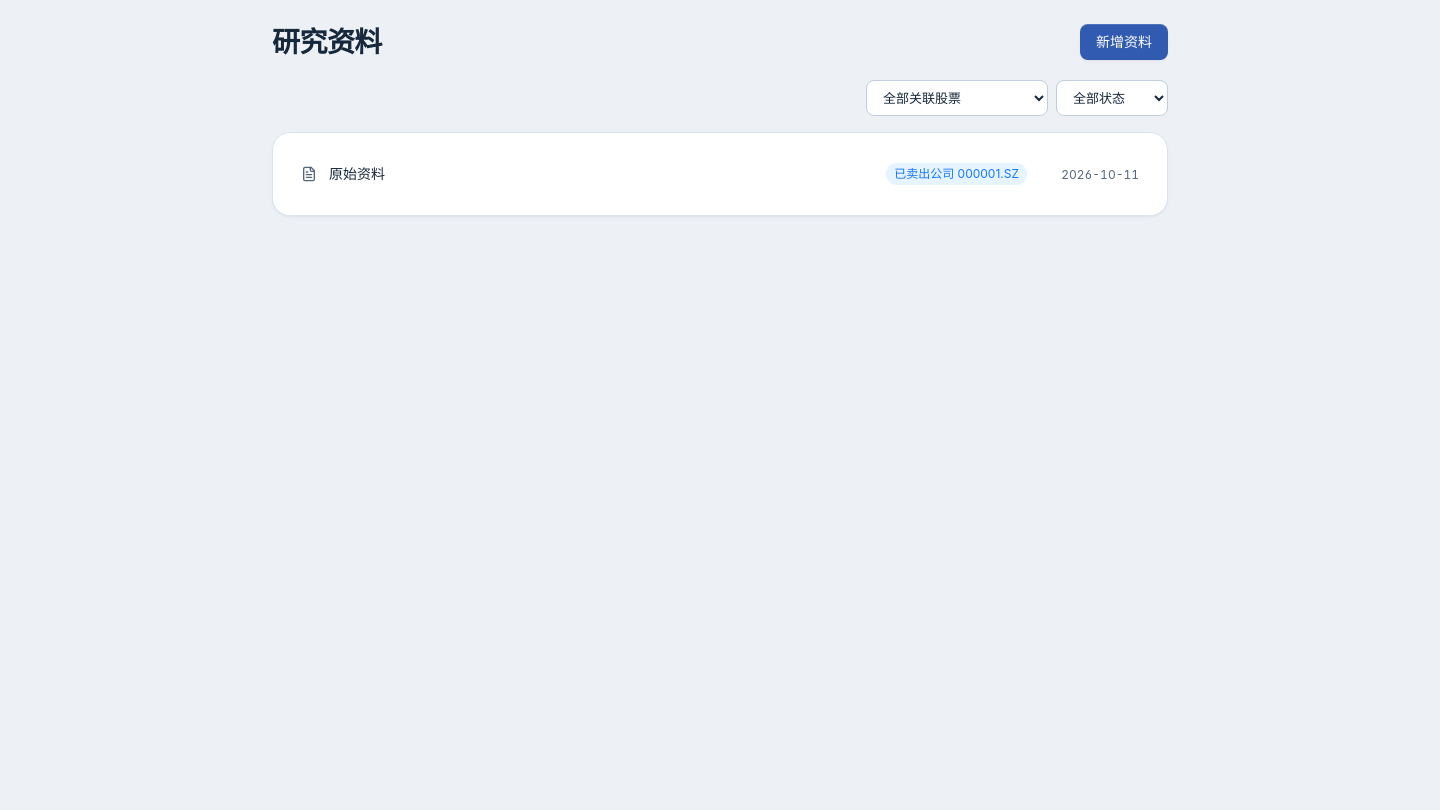
Test: keeps a stock tag that is no longer held or watched selectable
Click the button "原始资料 已卖出公司 000001.SZ 2026-10-11" at (357, 174), box [293,153,1147,195]
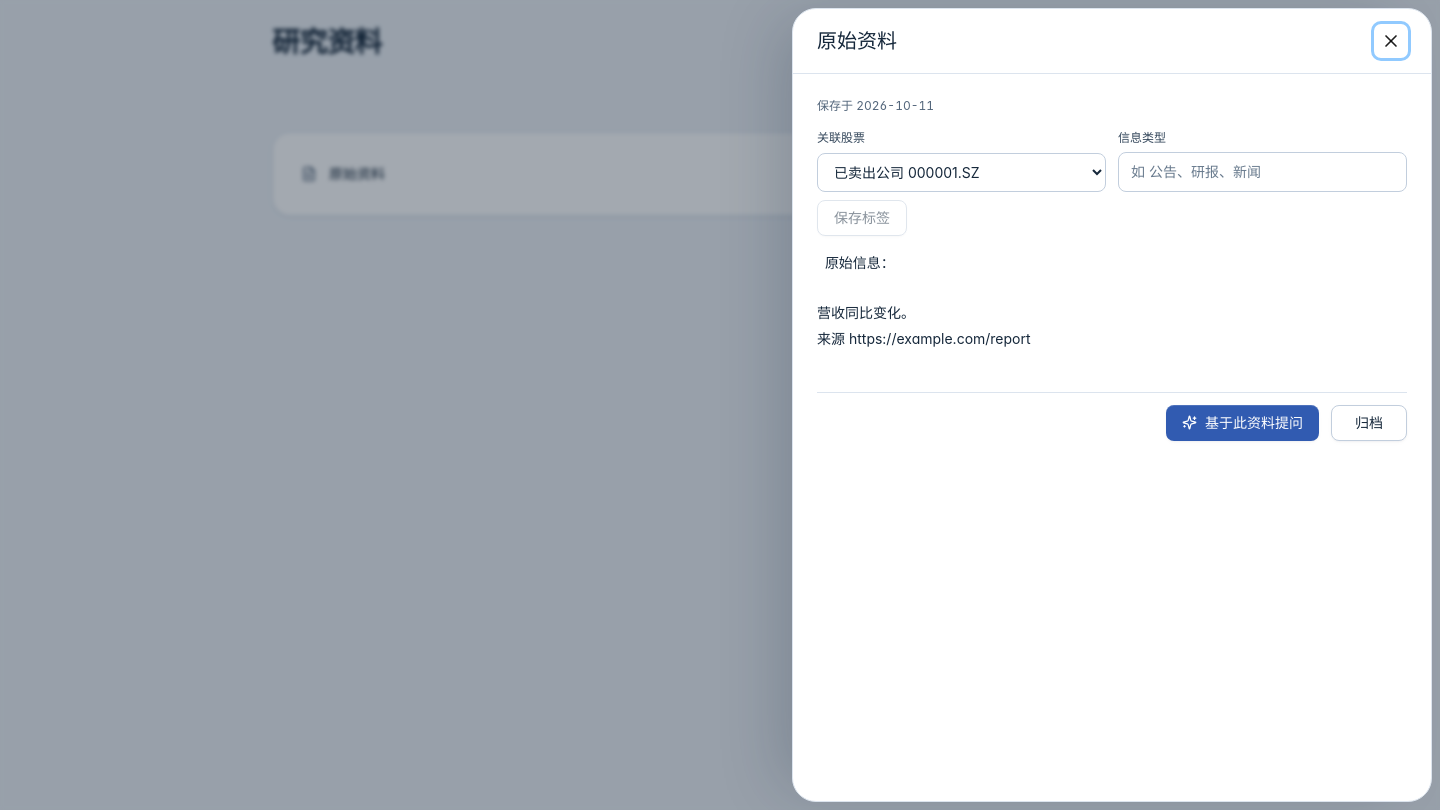
Expected: the dropdown labelled "关联股票" shows "已卖出公司 000001.SZ", [817,153,1106,192]
